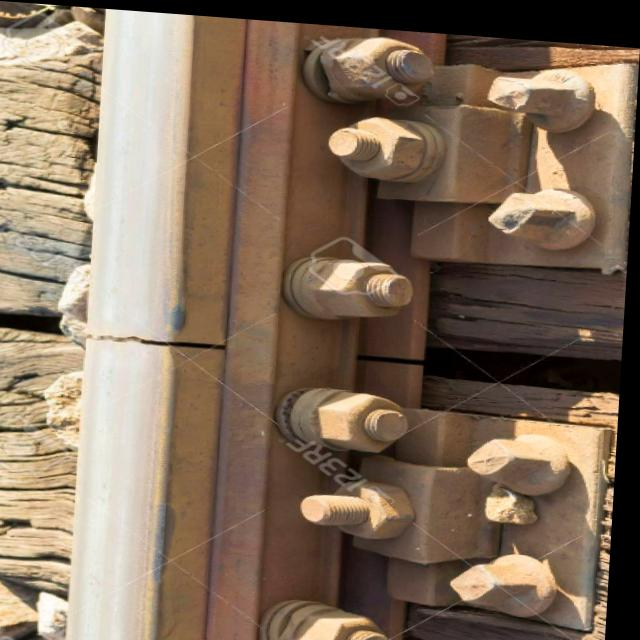Rusty bolt: (289, 242, 435, 326), (294, 368, 428, 458), (302, 23, 436, 109), (296, 466, 431, 545), (316, 106, 441, 189), (275, 587, 406, 640)
